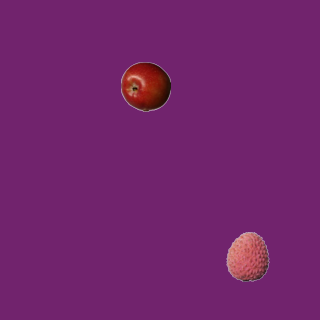Apple Braeburn: (120, 61, 170, 111)
Lychee: (222, 231, 272, 281)
